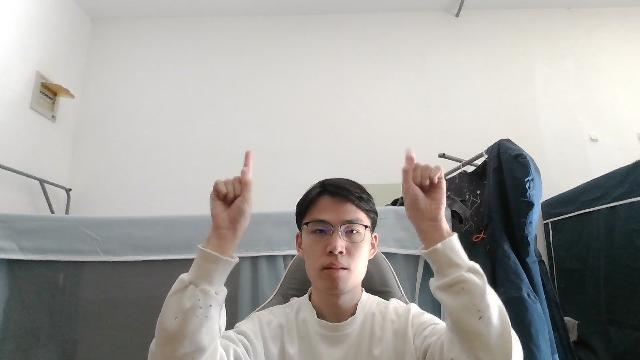one: (209, 148, 256, 235)
